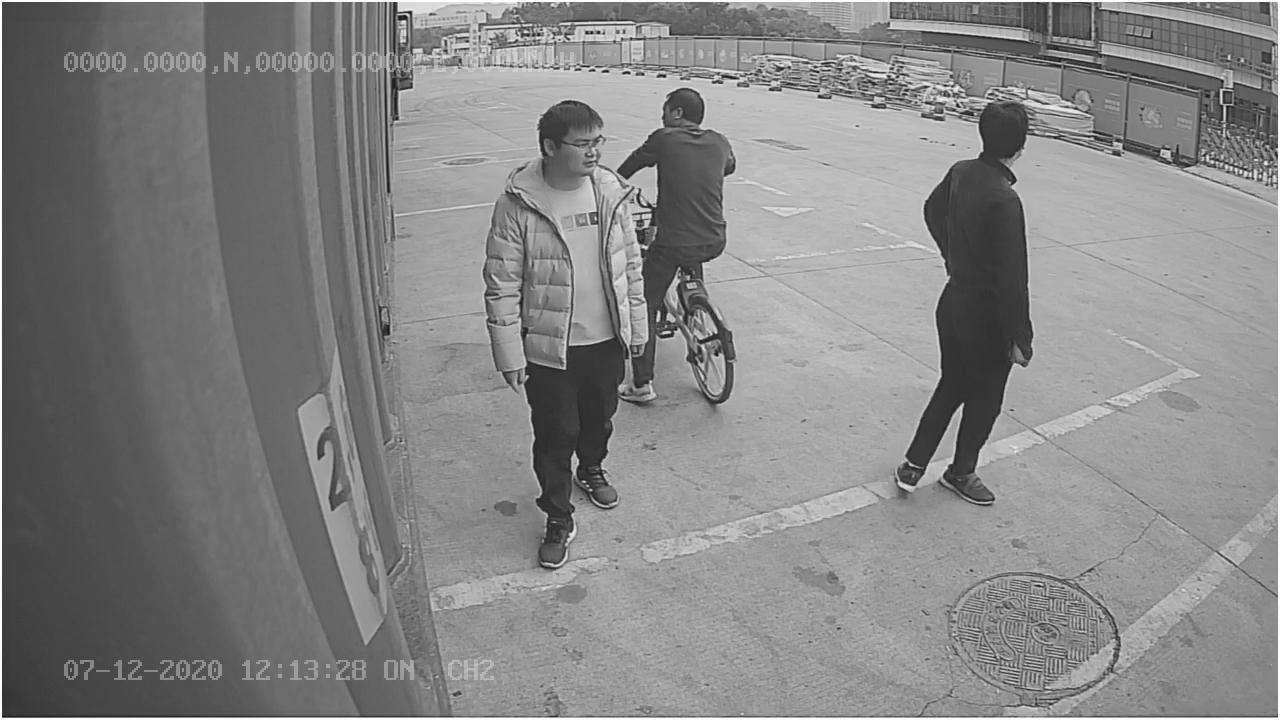person: (893, 96, 1043, 506)
